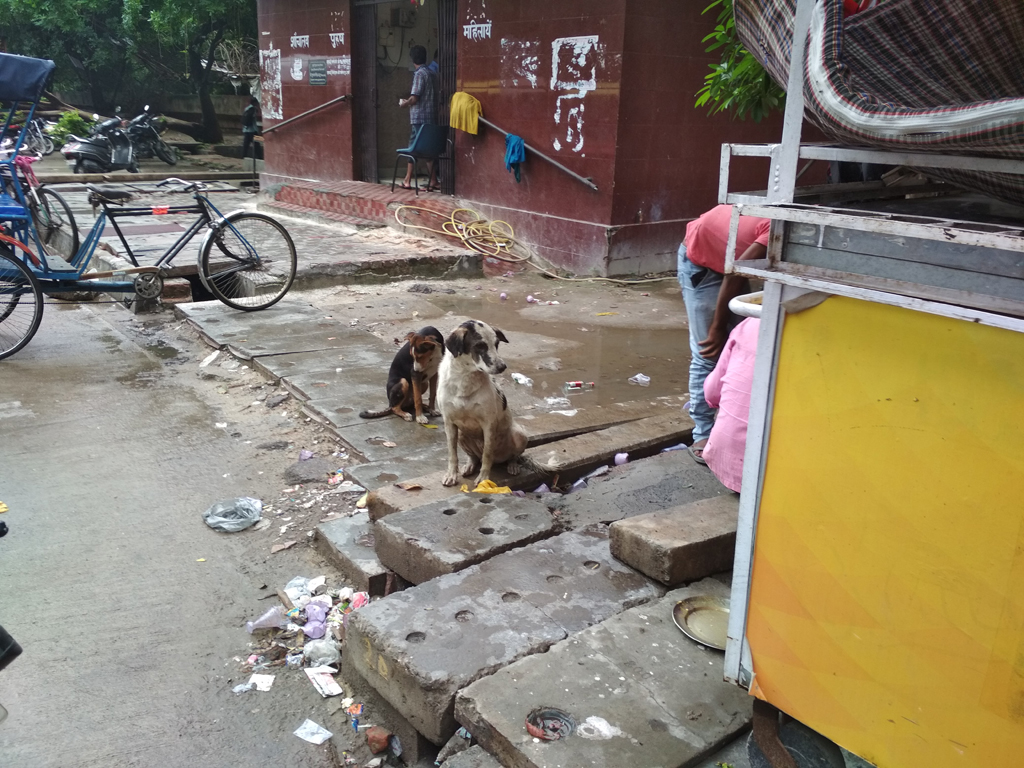dog: (435, 320, 560, 489), (359, 325, 446, 424)
